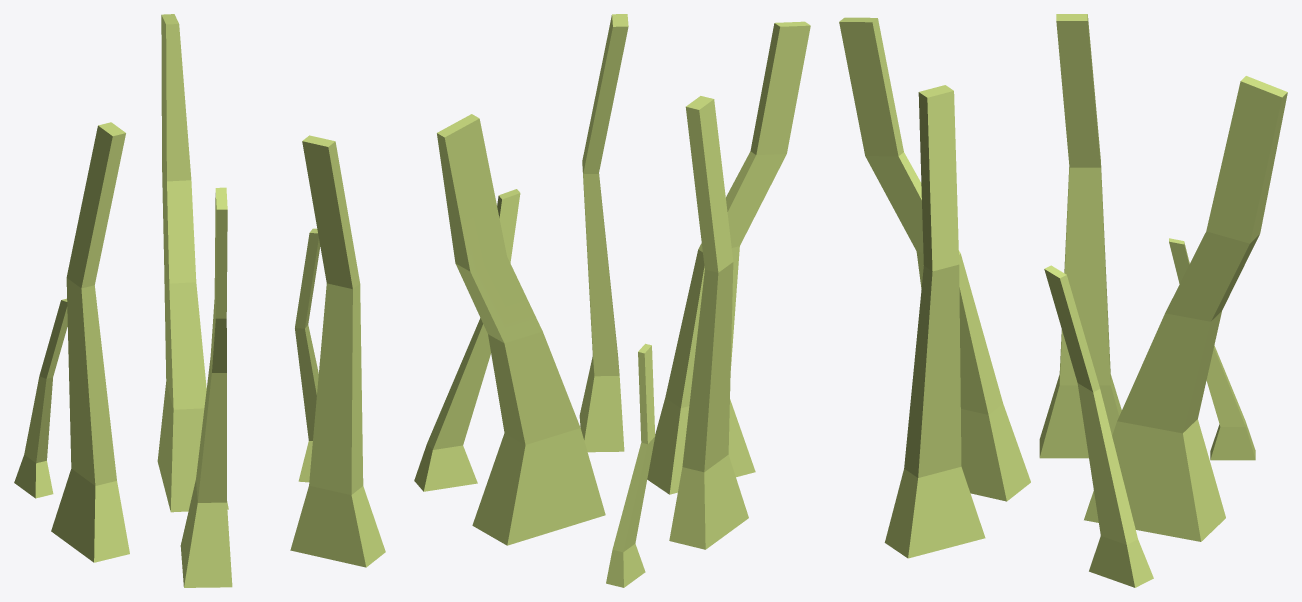
The model's file is grass2.glb.
3 views of the same model, side by side, from view 1: azimuth 30°, elevation 25°; view 2: azimuth 150°, elevation 25°; view 3: azimuth 270°, elevation 25° (orthographic). The views are drawn at different scales.
Parts seen in each view (by area): view 1: Grass2; view 2: Grass2; view 3: Grass2.
Boxes of the visible parts, x1,y1,x2,y2 form: Grass2: (14, 14, 385, 587); Grass2: (414, 14, 810, 587); Grass2: (839, 14, 1287, 587).
Bounding box in the file's own units: 0.1646 × 0.2336 × 0.2104.
